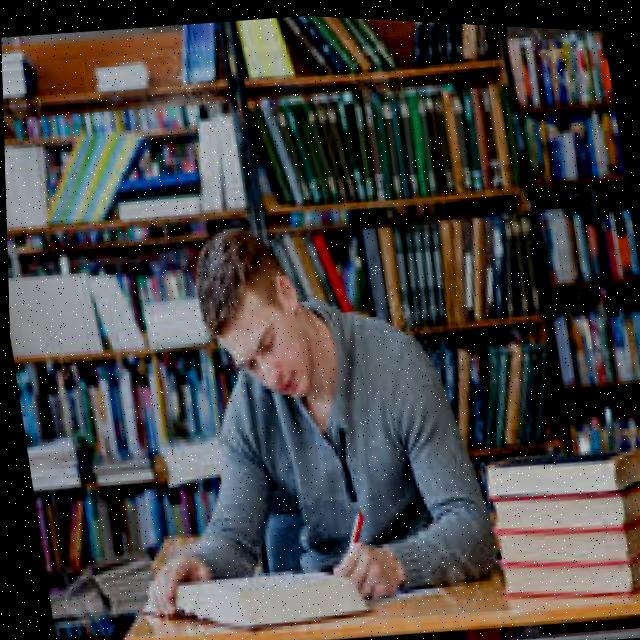studying-person: (78, 167, 501, 640)
